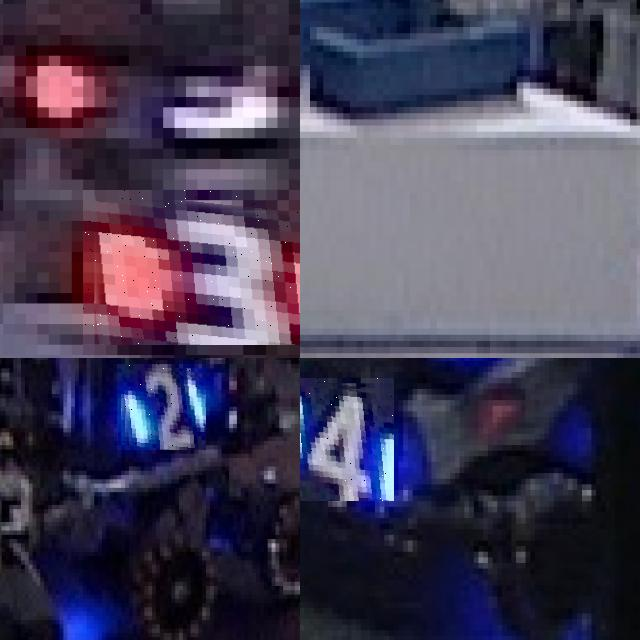B2: (117, 364, 206, 450)
B4: (300, 377, 393, 501)
R3: (83, 190, 300, 345)
